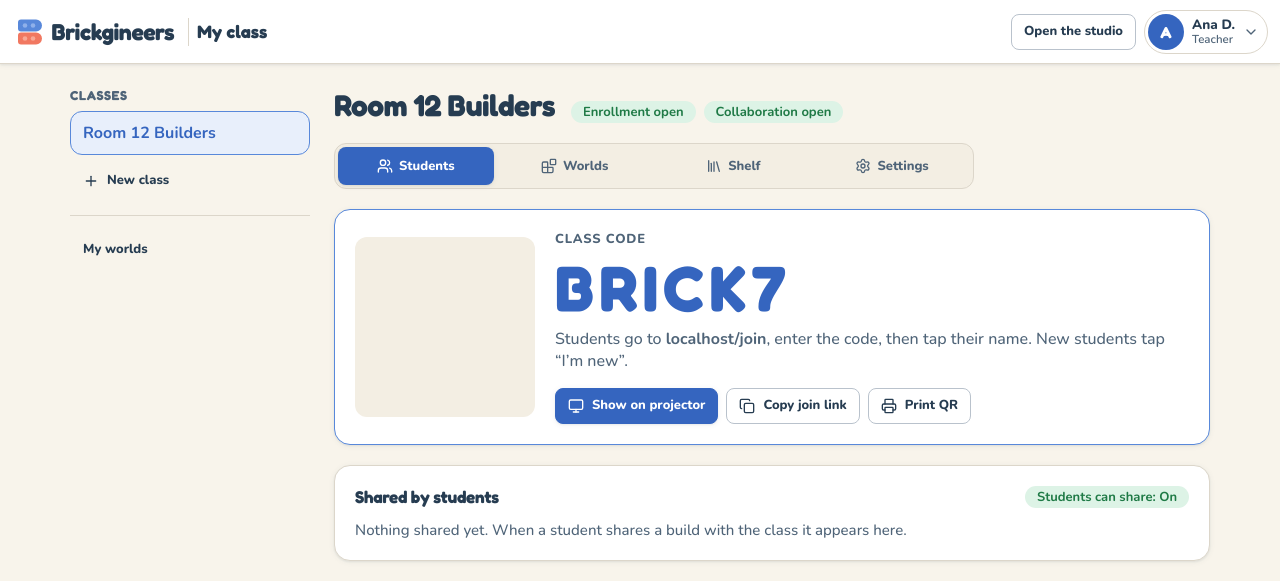
Test case: Refresh shows a brick a student just shared, and an open Peek stays open
Click the radio button labelled "Shelf": (733, 166) [656, 147, 811, 185]
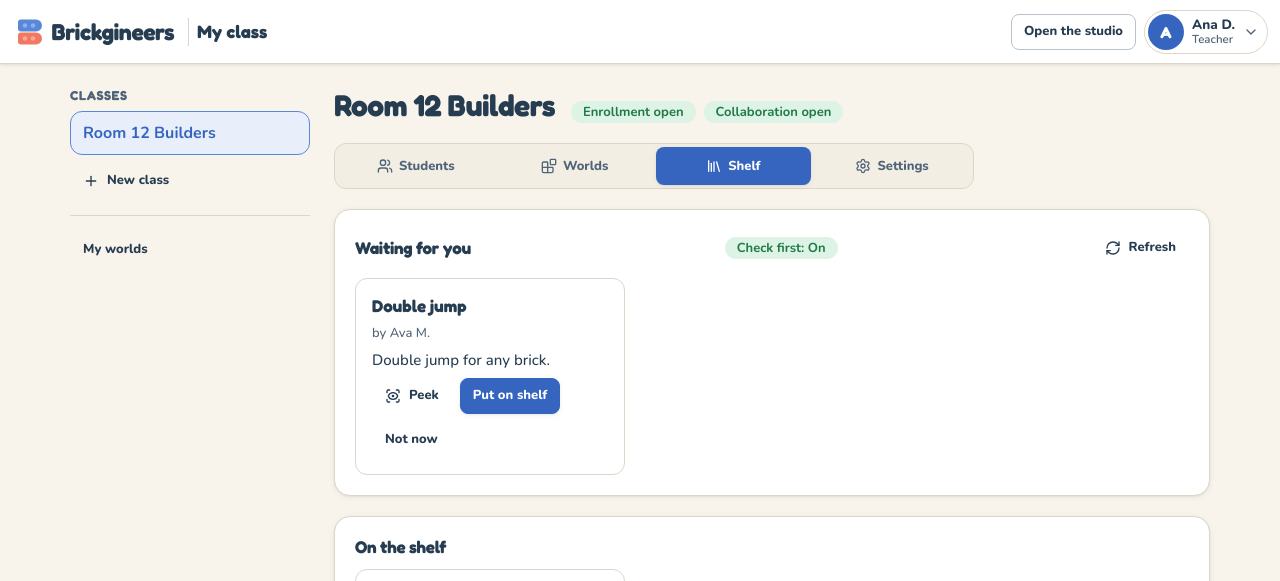
Click the button "Peek" below "Ava M.": (412, 396) [372, 378, 452, 414]
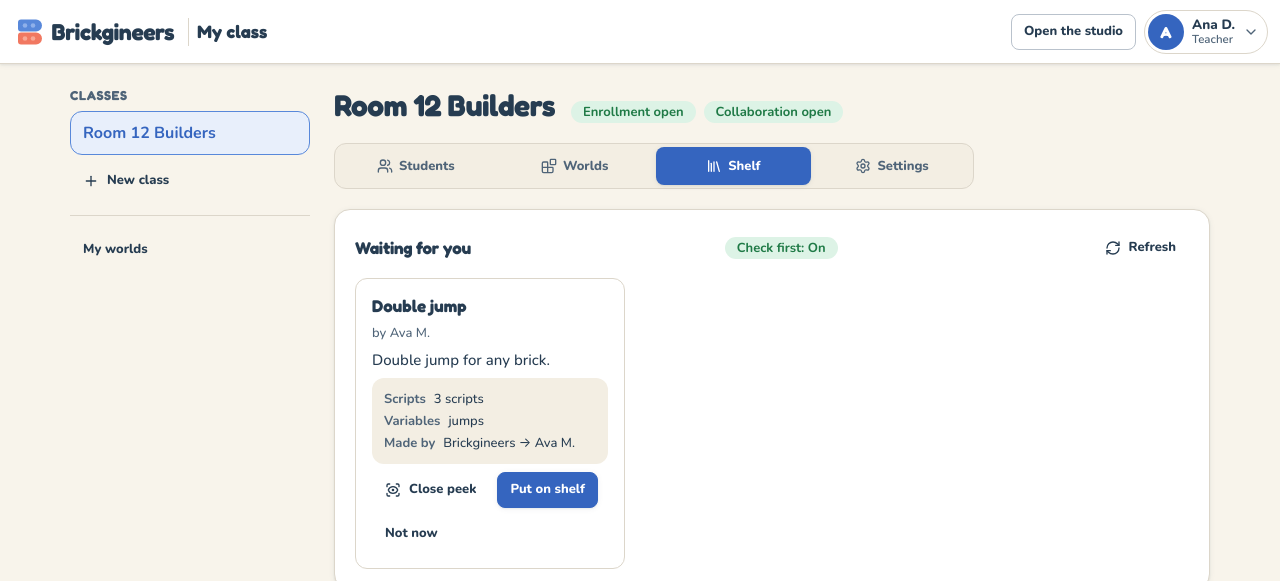
Expected: the text "3 scripts" is shown, [434, 390, 484, 408]
Click the button "Refresh": (1140, 248) [1092, 230, 1189, 266]
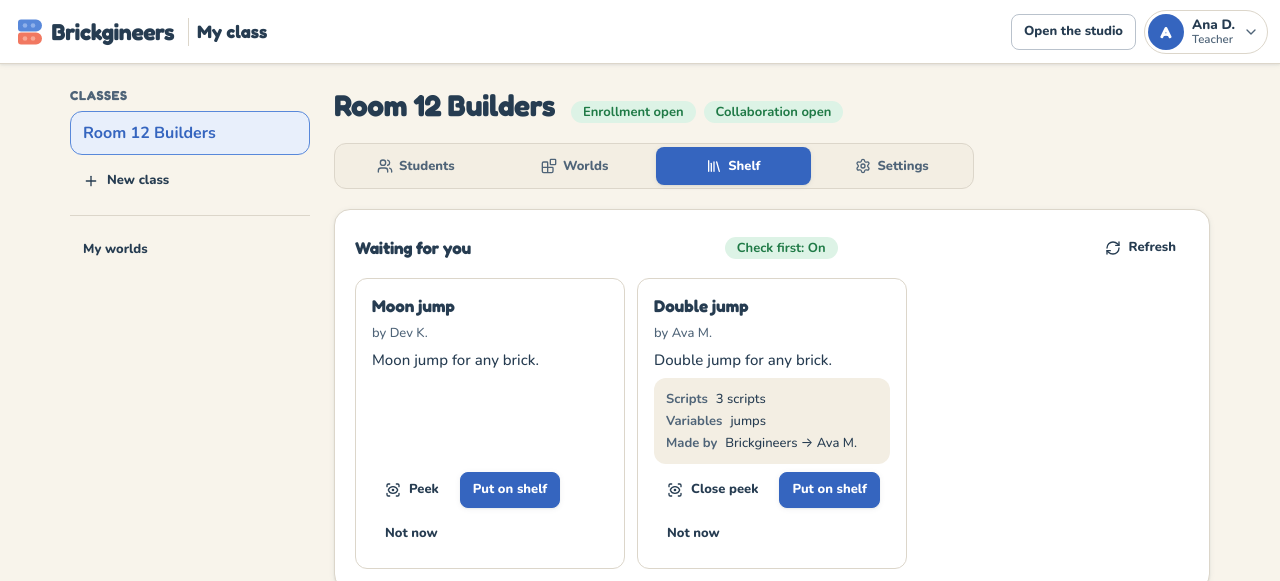
Expected: the text "3 scripts" is shown, [716, 390, 766, 408]
Expected: the text "Moon jump" is shown, [372, 295, 455, 316]
